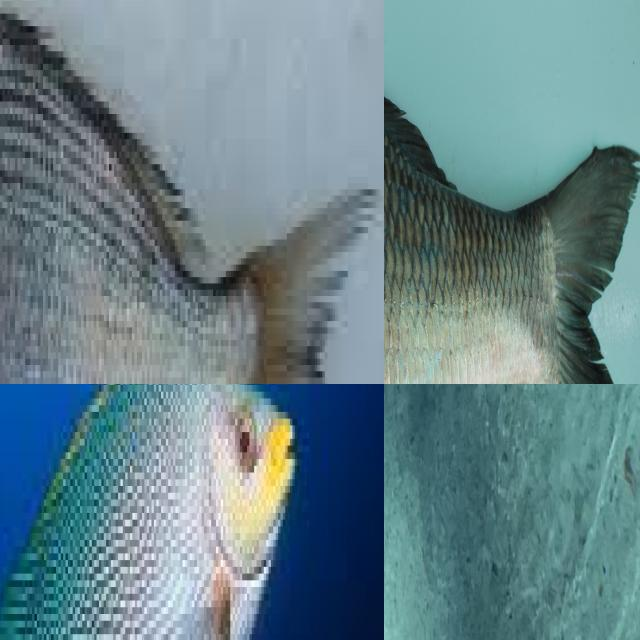fish: (0, 0, 384, 384), (384, 0, 640, 384), (0, 384, 330, 640)
